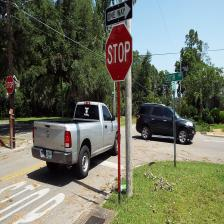Stop-sign: (105, 23, 133, 84)
